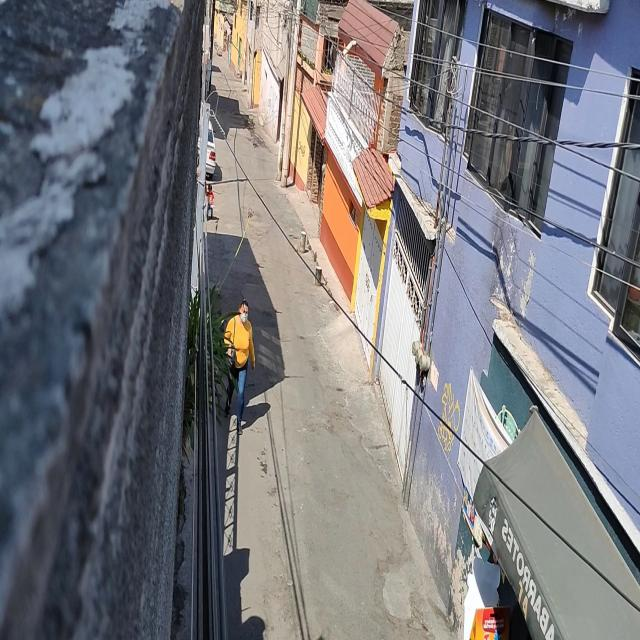adult: (223, 298, 256, 435)
